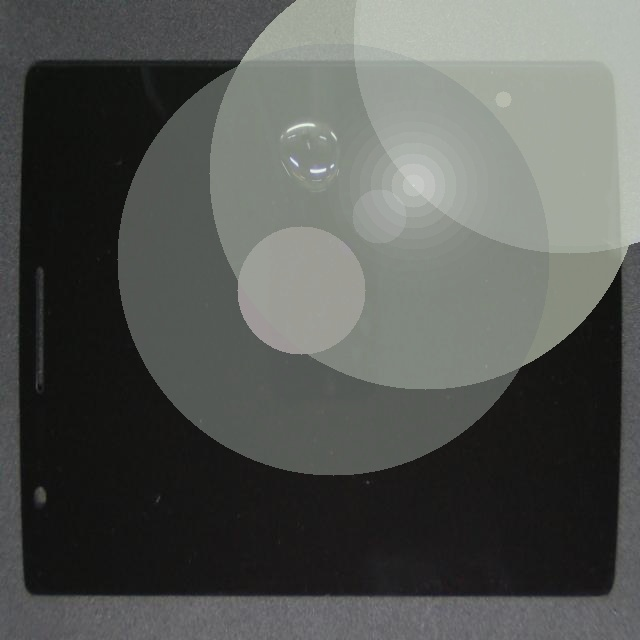oil: (182, 97, 496, 211)
